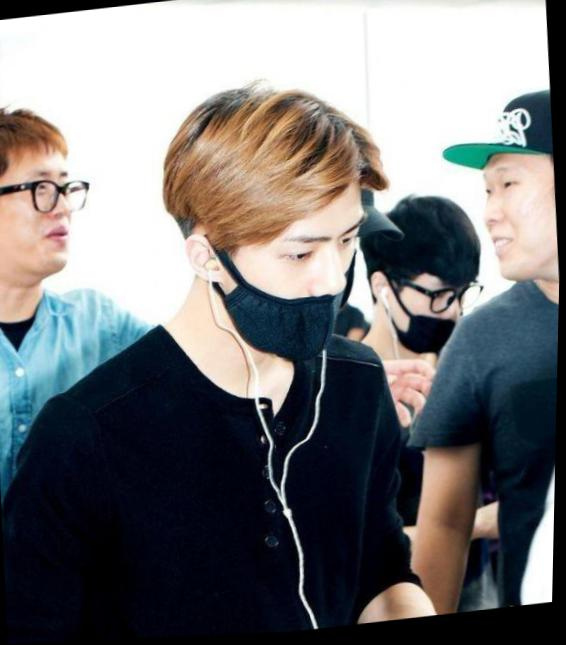NONE: (476, 167, 561, 285), (1, 163, 85, 279)
WRONG: (227, 215, 374, 365), (384, 274, 480, 361)
